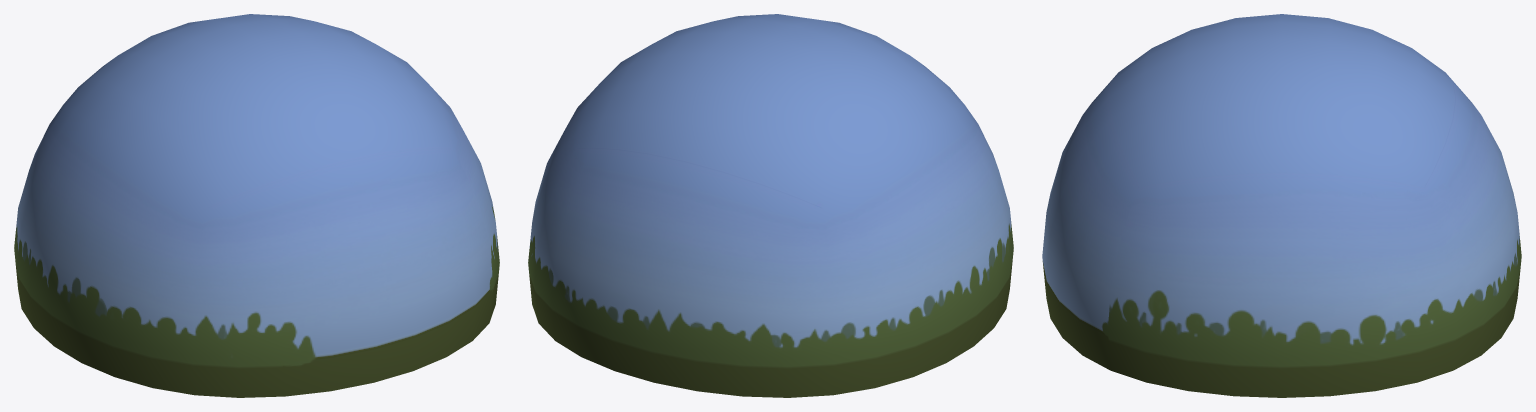
Rendered from Skybox1.gltf.
The picture shows the model from 3 angles, left to right: view 1: azimuth 30°, elevation 25°; view 2: azimuth 150°, elevation 25°; view 3: azimuth 270°, elevation 25°; orthographic projection.
Parts seen in each view (by area): view 1: Skybox1; view 2: Skybox1; view 3: Skybox1.
Boxes of the visible parts, x1,y1,x2,y2 form: Skybox1: (14,14,499,397); Skybox1: (528,14,1013,397); Skybox1: (1042,14,1521,397).
Size of the model in its own units: 124 by 74.08 by 124.
1 material, 1 textured.
